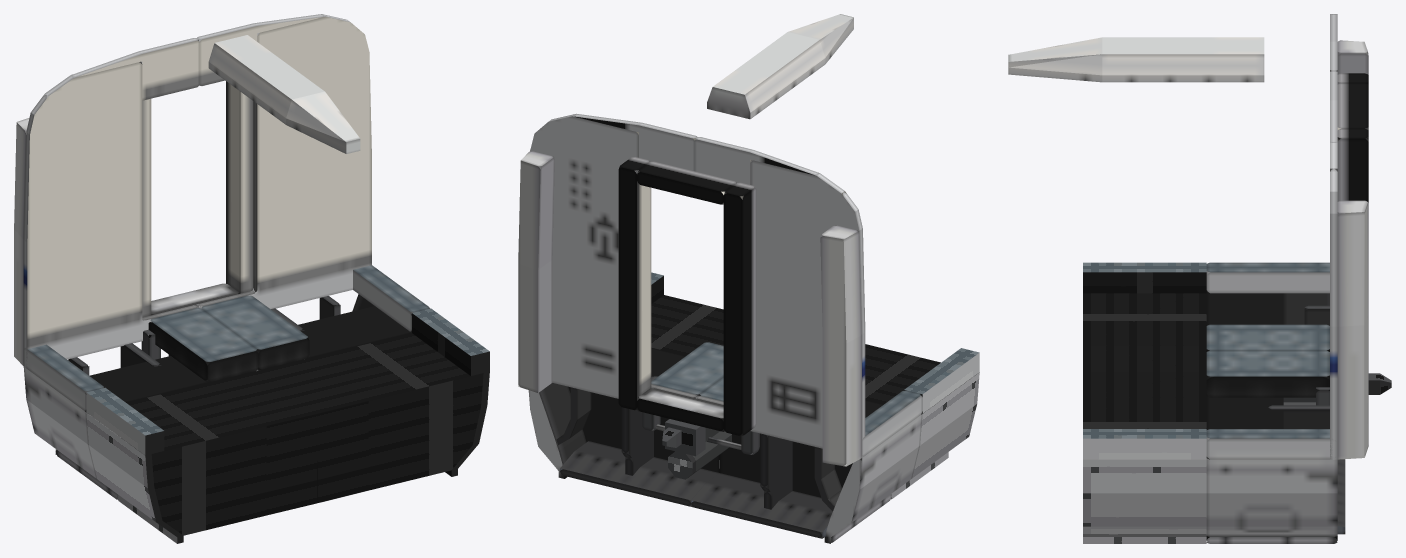
File: endface_horizontal_plain.obj
3 views of the same model, side by side, from view 1: azimuth 30°, elevation 25°; view 2: azimuth 150°, elevation 25°; view 3: azimuth 270°, elevation 25° (orthographic). The views are drawn at different scales.
Parts seen in each view (by area): view 1: 端面1, 裙板-仪器舱靠近端面R, 裙板-仪器舱靠近端面L, 裙板-仪器舱R, 地板-中间, 内风挡-侧, mesh, 裙板-仪器舱L, 端面2, 外风挡, 内风挡-下, 防雪风挡骨架 (+1 smaller); view 2: 端面1, 外风挡, 内风挡-侧, 裙板-仪器舱R, 防雪风挡, 裙板-仪器舱靠近端面R, mesh, 裙板-仪器舱L, 端面2, 裙板-仪器舱靠近端面L, 防雪风挡骨架, 地板-中间 (+6 smaller); view 3: 裙板-仪器舱靠近端面L, 裙板-仪器舱L, 裙板-仪器舱靠近端面R, mesh, 外风挡, 地板-中间, 裙板-仪器舱R, 内风挡-侧, 端面1, 内风挡-上, 防雪风挡骨架, 端面2 (+2 smaller).
Boxes of the visible parts, left/top/right/bottom form: 端面1: left=23, top=14, right=371, bottom=368; 裙板-仪器舱靠近端面R: left=86, top=370, right=317, bottom=543; 裙板-仪器舱靠近端面L: left=259, top=308, right=489, bottom=502; 裙板-仪器舱R: left=23, top=344, right=258, bottom=499; 地板-中间: left=148, top=295, right=309, bottom=381; 内风挡-侧: left=142, top=81, right=253, bottom=317; mesh: left=208, top=35, right=360, bottom=153; 裙板-仪器舱L: left=256, top=265, right=429, bottom=371; 端面2: left=71, top=14, right=323, bottom=100; 外风挡: left=14, top=117, right=29, bottom=365; 内风挡-下: left=151, top=283, right=239, bottom=315; 防雪风挡骨架: left=120, top=308, right=304, bottom=367; 端面1: left=530, top=113, right=865, bottom=457; 外风挡: left=518, top=150, right=861, bottom=466; 内风挡-侧: left=618, top=157, right=756, bottom=435; 裙板-仪器舱R: left=719, top=390, right=922, bottom=543; 防雪风挡: left=560, top=441, right=832, bottom=538; 裙板-仪器舱靠近端面R: left=865, top=344, right=979, bottom=498; mesh: left=707, top=14, right=853, bottom=119; 裙板-仪器舱L: left=528, top=347, right=719, bottom=478; 端面2: left=574, top=114, right=818, bottom=191; 裙板-仪器舱靠近端面L: left=651, top=272, right=723, bottom=355; 防雪风挡骨架: left=621, top=375, right=792, bottom=509; 地板-中间: left=651, top=342, right=723, bottom=401; 裙板-仪器舱靠近端面L: left=1083, top=372, right=1206, bottom=543; 裙板-仪器舱L: left=1206, top=396, right=1337, bottom=543; 裙板-仪器舱靠近端面R: left=1083, top=262, right=1206, bottom=371; mesh: left=1008, top=37, right=1264, bottom=82; 外风挡: left=1337, top=40, right=1368, bottom=459; 地板-中间: left=1206, top=324, right=1329, bottom=397; 裙板-仪器舱R: left=1206, top=262, right=1329, bottom=325; 内风挡-侧: left=1337, top=73, right=1368, bottom=202; 端面1: left=1330, top=14, right=1337, bottom=459; 内风挡-上: left=1337, top=83, right=1368, bottom=139; 防雪风挡骨架: left=1268, top=405, right=1329, bottom=428; 端面2: left=1330, top=14, right=1337, bottom=142.
Size of the model in its own units: 3.38 by 3.81 by 3.11.
